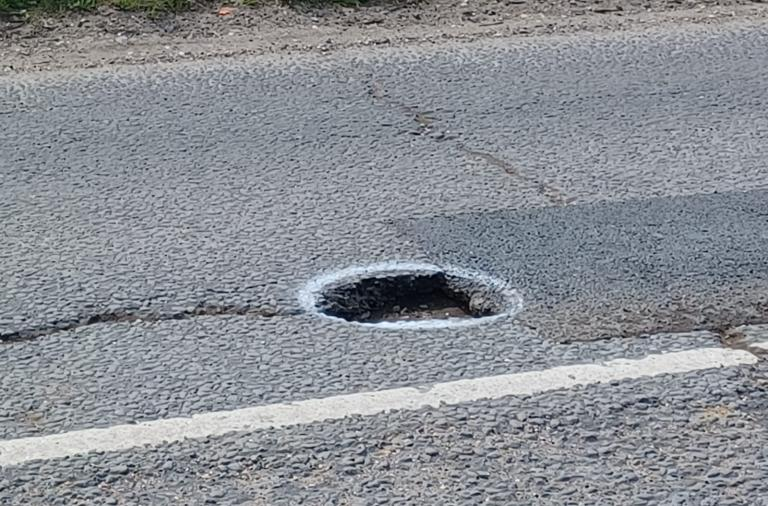Hole_in_the_road: (279, 238, 562, 359)
